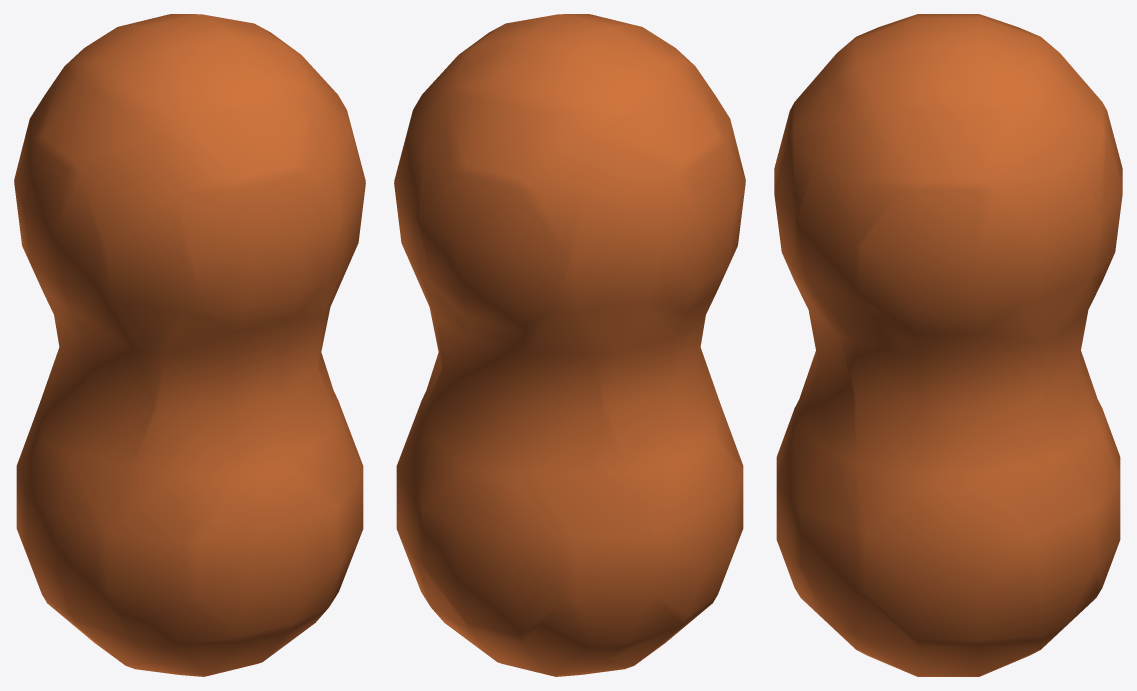
Rendered from Pinda.fbx.
3 renders of one model, left to right at view 1: azimuth 30°, elevation 25°; view 2: azimuth 150°, elevation 25°; view 3: azimuth 270°, elevation 25°, orthographic.
Parts seen in each view (by area): view 1: Mball.002; view 2: Mball.002; view 3: Mball.002.
Part boxes in pixels (x1,y1,x2,y2): Mball.002: [14, 14, 365, 676]; Mball.002: [394, 14, 745, 676]; Mball.002: [774, 14, 1122, 676].
Bounding box in the file's own units: 10.05 × 20 × 10.05.
